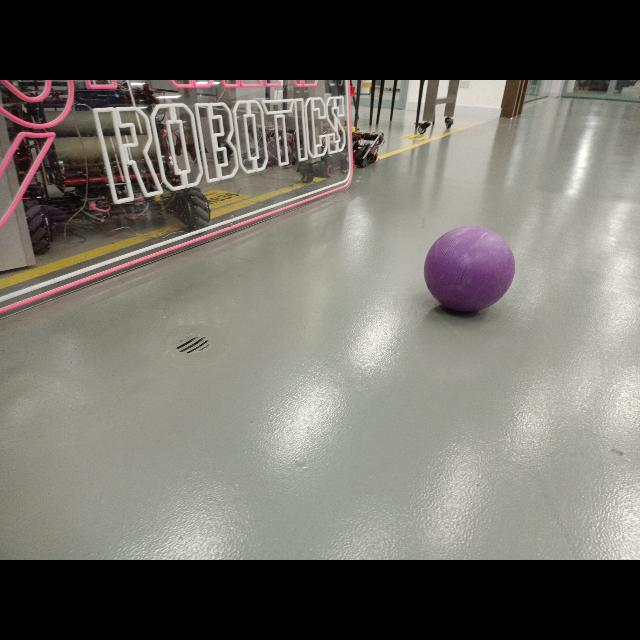P: (421, 225, 521, 318)
